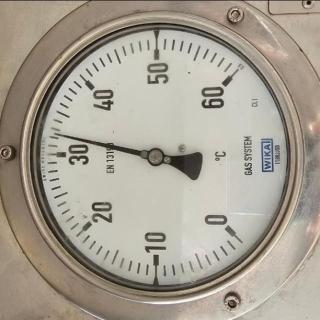gauge: (21, 11, 306, 308), (209, 211, 245, 245), (210, 69, 240, 99), (146, 145, 166, 167), (50, 128, 64, 140)
